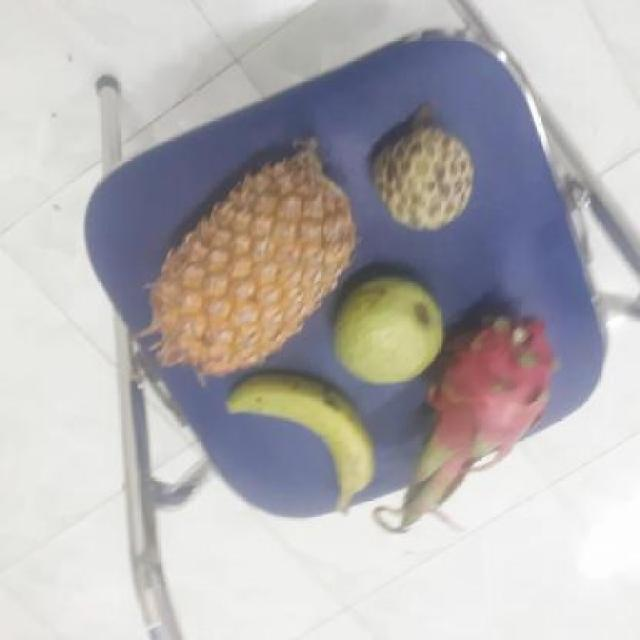banana: (222, 373, 373, 507)
dragon fruit: (405, 312, 552, 496)
guava: (327, 273, 445, 384)
pineapple: (134, 152, 354, 370)
sugar apple: (359, 124, 473, 231)
